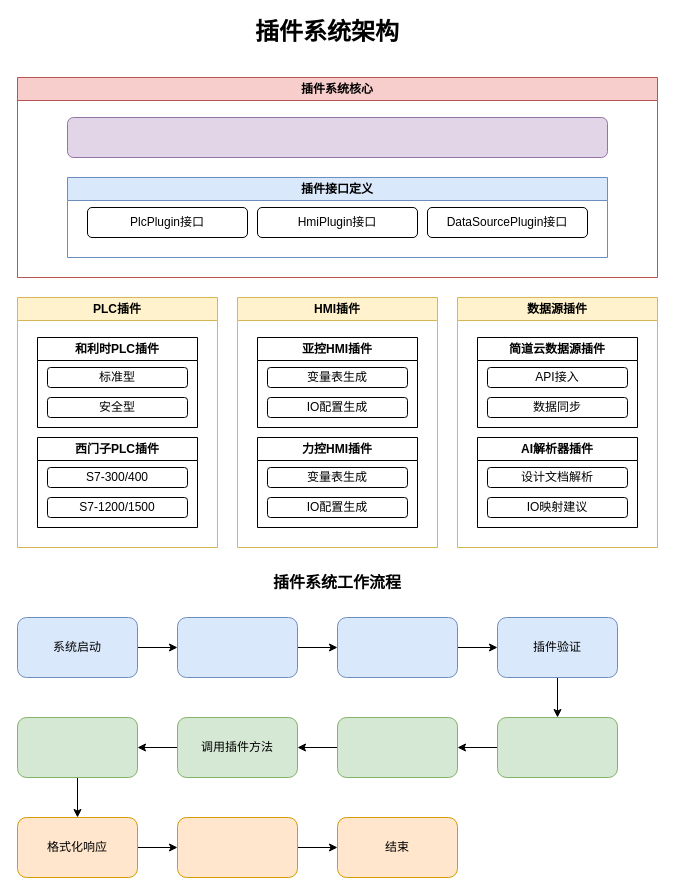
The diagram is 675 pixels wide and 895 high, and some of its shapes have lost their labels. Each missing label, with the centre of its shape:
"处理插件结果" goes at pixel 77 747.
"插件发现与加载" goes at pixel 237 647.
"插件注册" goes at pixel 397 647.
"插件注册表" goes at pixel 337 137.
"根据请求类型选择插件" goes at pixel 397 747.
"用户请求" goes at pixel 557 747.
"返回结果" goes at pixel 237 847.
